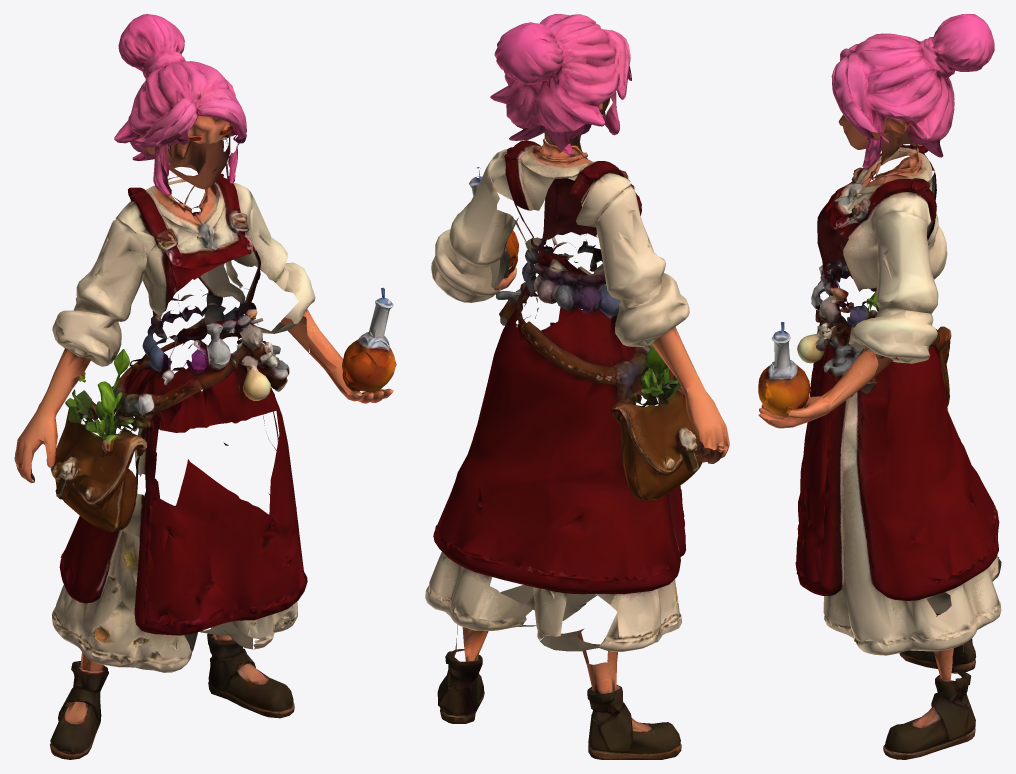
File: mira154.glb
3 views of the same model, side by side, from view 1: azimuth 30°, elevation 25°; view 2: azimuth 150°, elevation 25°; view 3: azimuth 270°, elevation 25° (orthographic). The views are drawn at different scales.
Parts seen in each view (by area): view 1: tripo_node_ef569608-d895-4aff-81c8-b446e489a2f8; view 2: tripo_node_ef569608-d895-4aff-81c8-b446e489a2f8; view 3: tripo_node_ef569608-d895-4aff-81c8-b446e489a2f8.
Boxes of the visible parts, left/top/right/bottom form: tripo_node_ef569608-d895-4aff-81c8-b446e489a2f8: left=14, top=14, right=396, bottom=759; tripo_node_ef569608-d895-4aff-81c8-b446e489a2f8: left=425, top=14, right=729, bottom=759; tripo_node_ef569608-d895-4aff-81c8-b446e489a2f8: left=758, top=14, right=1001, bottom=759.
Bounding box in the file's own units: 0.4591 × 0.9789 × 0.3116.
1 material, 1 textured.
